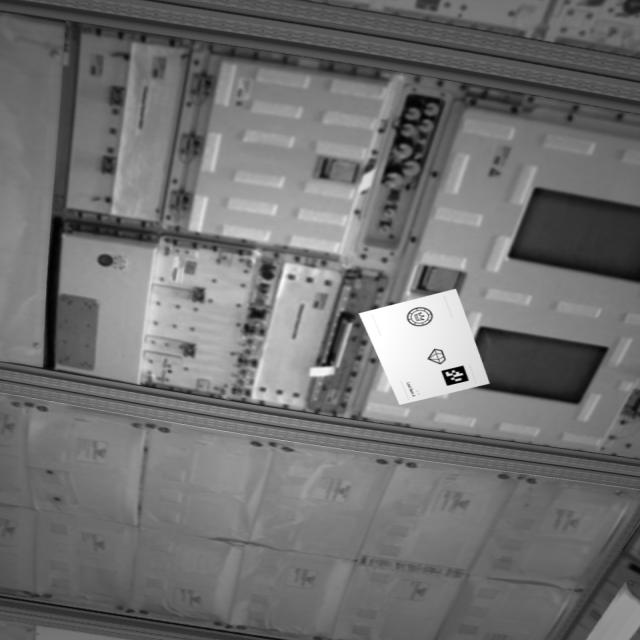coin: (404, 307, 442, 330)
diamond: (421, 345, 454, 370)
